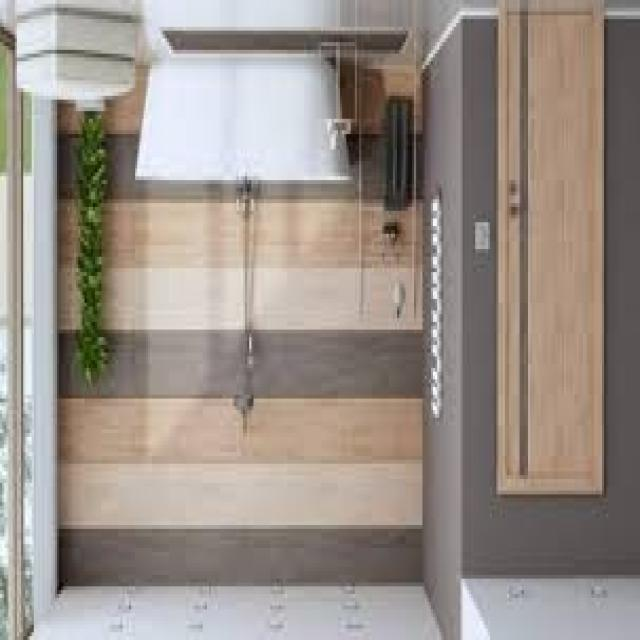door: (494, 0, 606, 498)
